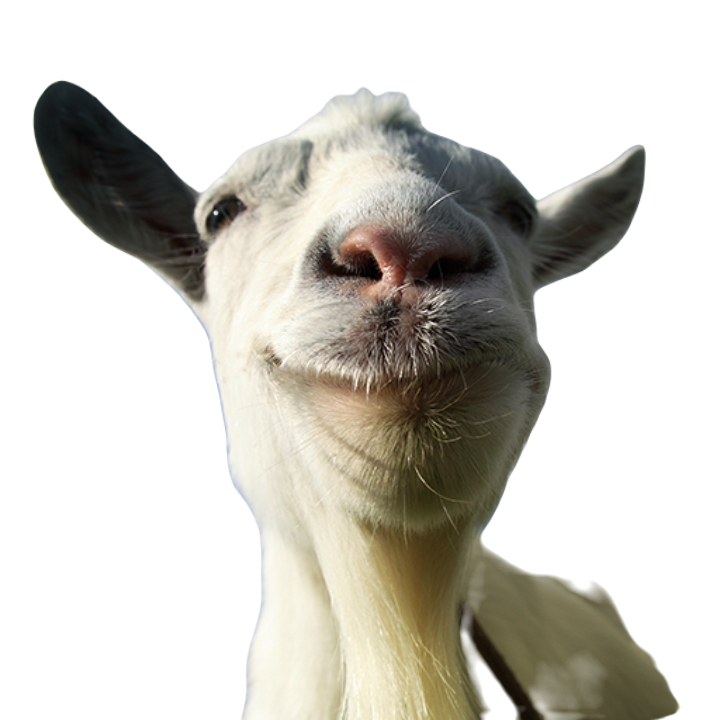Goat: (30, 78, 680, 719)
